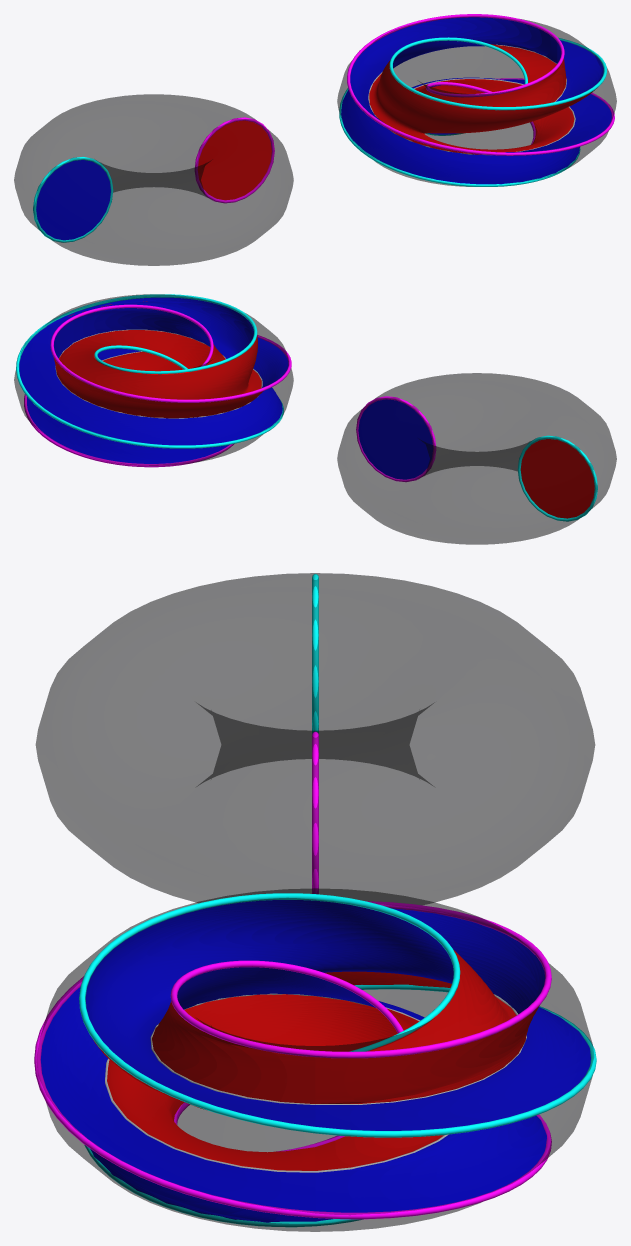
File: adapted_l3_1.glb
3 views of the same model, one above another, from view 1: azimuth 30°, elevation 25°; view 2: azimuth 150°, elevation 25°; view 3: azimuth 270°, elevation 25° (orthographic). The views are drawn at different scales.
Visible parts, largest first — view 1: Torus, Circle_T_alt, meridional disks, boundary1, boundary2, sing; view 2: Torus, Circle_T_alt, meridional disks, boundary2, boundary1, sing; view 3: Torus, Circle_T_alt, boundary1, boundary2, sing.
Boxes of the visible parts, x1,y1,x2,y2 form: Torus: [14, 17, 616, 265]; Circle_T_alt: [341, 17, 611, 184]; meridional disks: [36, 120, 271, 240]; boundary1: [195, 14, 614, 203]; boundary2: [33, 37, 606, 242]; sing: [368, 44, 575, 155]; Torus: [14, 294, 616, 544]; Circle_T_alt: [19, 297, 288, 463]; meridional disks: [358, 399, 594, 518]; boundary2: [16, 294, 597, 521]; boundary1: [24, 304, 436, 481]; sing: [55, 329, 262, 418]; Torus: [35, 573, 595, 1231]; Circle_T_alt: [40, 900, 590, 1222]; boundary1: [34, 731, 551, 1219]; boundary2: [79, 574, 596, 1227]; sing: [105, 993, 526, 1172].
Size of the model in its own units: 7 by 1.04 by 3.02.
